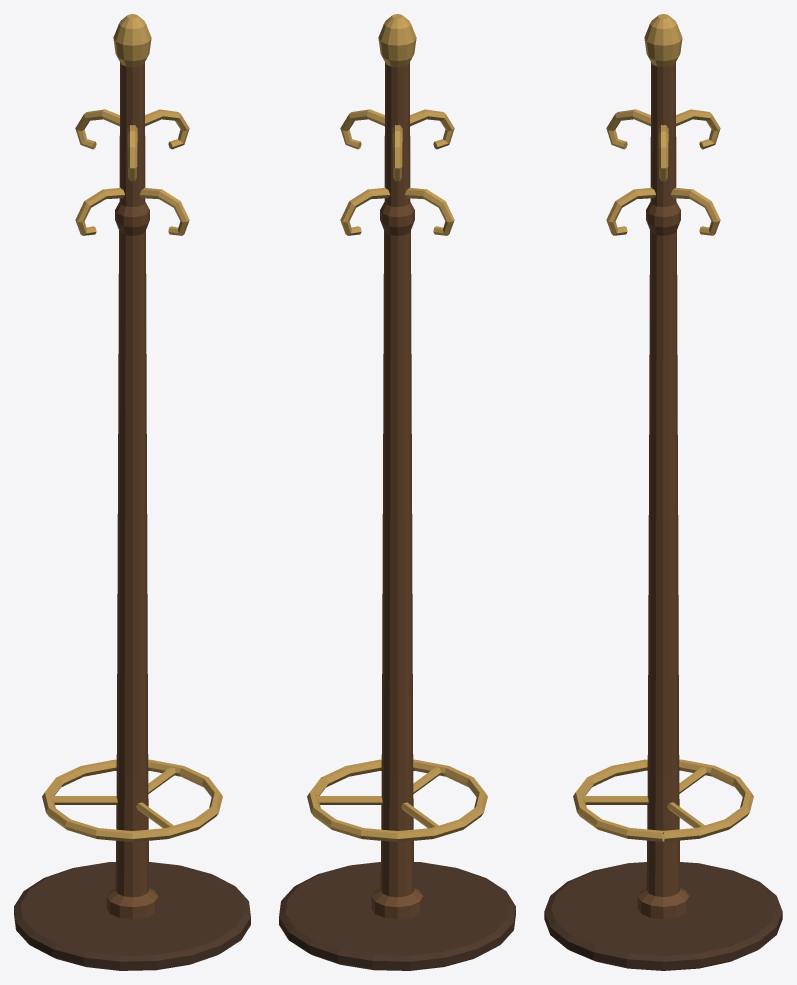
The model's file is FN_Coatstand.glb.
3 renders of one model, left to right at view 1: azimuth 30°, elevation 25°; view 2: azimuth 150°, elevation 25°; view 3: azimuth 270°, elevation 25°, orthographic.
Parts seen in each view (by area): view 1: FN_Coatstand; view 2: FN_Coatstand; view 3: FN_Coatstand.
Part boxes in pixels (x1,y1,x2,y2): FN_Coatstand: [14, 14, 250, 970]; FN_Coatstand: [279, 14, 515, 970]; FN_Coatstand: [544, 14, 782, 970].
Size of the model in its own units: 0.424 by 1.78 by 0.424.
1 material, 1 textured.
